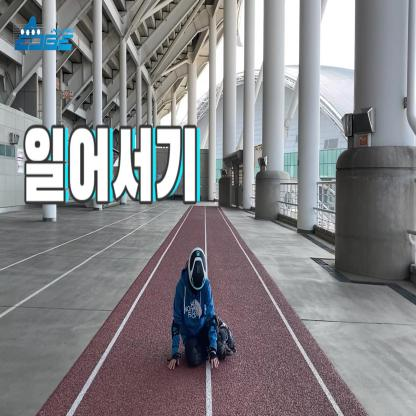Fall_Down: (166, 247, 235, 372)
